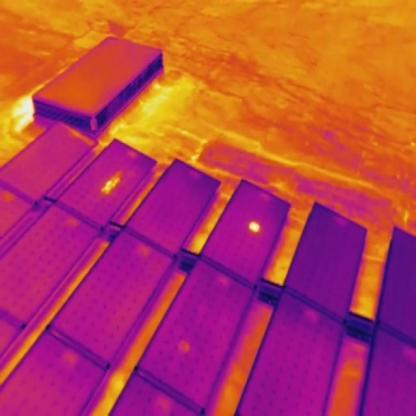anomaly: (102, 173, 120, 195), (245, 221, 263, 235)
